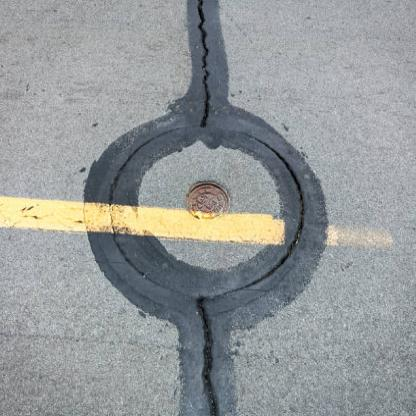manholes: (60, 59, 350, 345)
